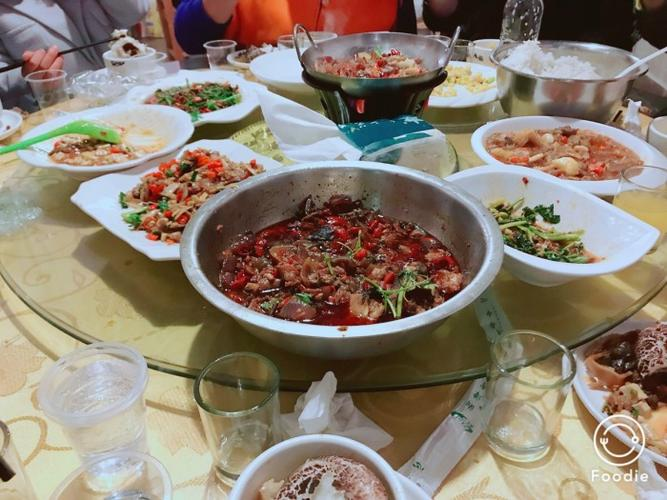food: (185, 154, 498, 357), (96, 136, 276, 257), (454, 166, 643, 281), (473, 109, 657, 197), (574, 315, 665, 463), (22, 98, 191, 177), (297, 26, 453, 107), (496, 31, 643, 113), (230, 428, 405, 495), (140, 64, 249, 127), (429, 54, 503, 122)
